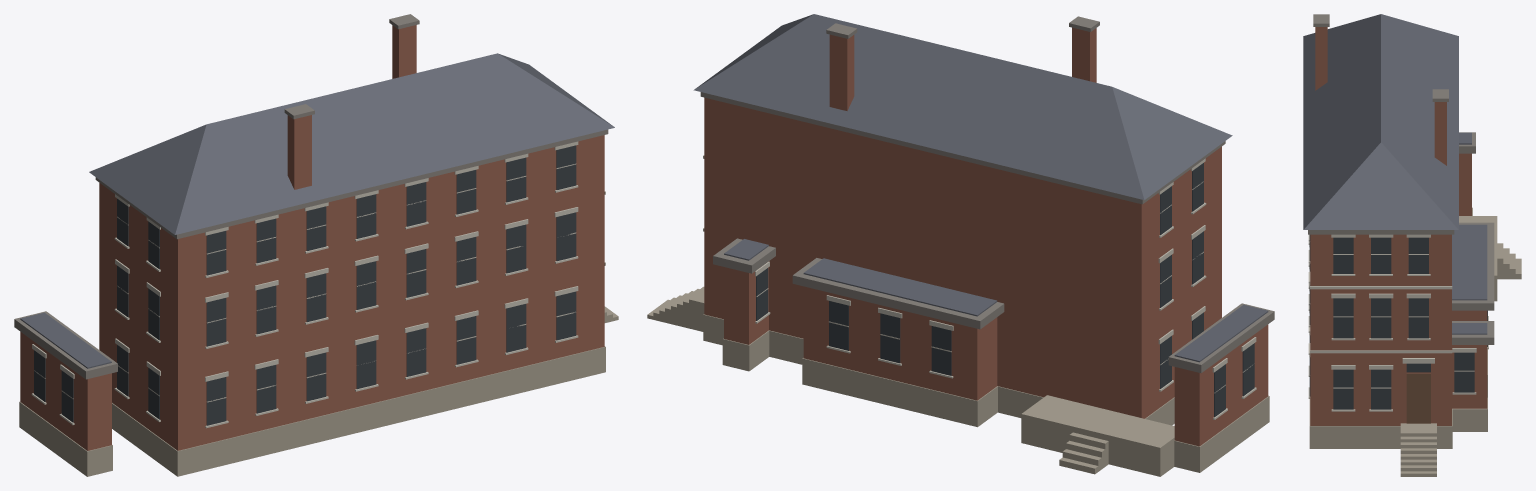
File: house_2000_calumet__draft_1904.glb
3 views of the same model, side by side, from view 1: azimuth 30°, elevation 25°; view 2: azimuth 150°, elevation 25°; view 3: azimuth 270°, elevation 25° (orthographic). The views are drawn at different scales.
Parts seen in each view (by area): view 1: house_2000_calumet__draft_1904; view 2: house_2000_calumet__draft_1904; view 3: house_2000_calumet__draft_1904.
Part boxes in pixels (x1,y1,x2,y2): house_2000_calumet__draft_1904: [14, 14, 618, 476]; house_2000_calumet__draft_1904: [647, 14, 1274, 476]; house_2000_calumet__draft_1904: [1303, 14, 1521, 476].
Size of the model in its own units: 29 by 16.29 by 10.8.
